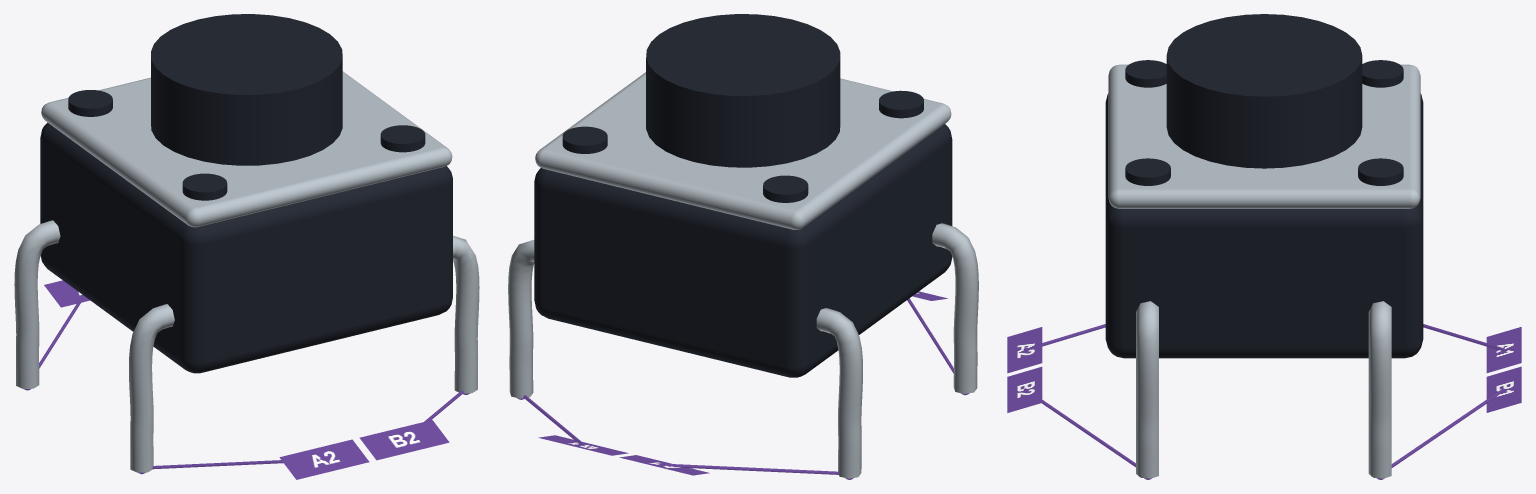
Rendered from button.glb.
The picture shows the model from 3 angles, left to right: view 1: azimuth 30°, elevation 25°; view 2: azimuth 150°, elevation 25°; view 3: azimuth 270°, elevation 25°; orthographic projection.
Parts seen in each view (by area): view 1: button, A2, B2, Terminal labels, A1; view 2: button, Terminal labels, B1, A1; view 3: button, Terminal labels, A2, B2, A1, B1.
Part boxes in pixels (box(x1,y1,x2,y2)): button: box(14, 14, 479, 472); A2: box(279, 439, 369, 479); B2: box(359, 420, 449, 460); Terminal labels: box(24, 295, 469, 474); A1: box(44, 280, 89, 307); button: box(508, 14, 978, 478); Terminal labels: box(517, 298, 969, 479); B1: box(538, 435, 628, 455); A1: box(619, 455, 709, 475); button: box(1105, 14, 1423, 478); Terminal labels: box(1023, 324, 1504, 479); A2: box(1007, 327, 1042, 373); B2: box(1007, 366, 1042, 412); A1: box(1486, 327, 1521, 372); B1: box(1486, 366, 1521, 412).
Bounding box in the file's own units: 0.00772 × 0.00717 × 0.00972.
10 materials, 4 textured.
